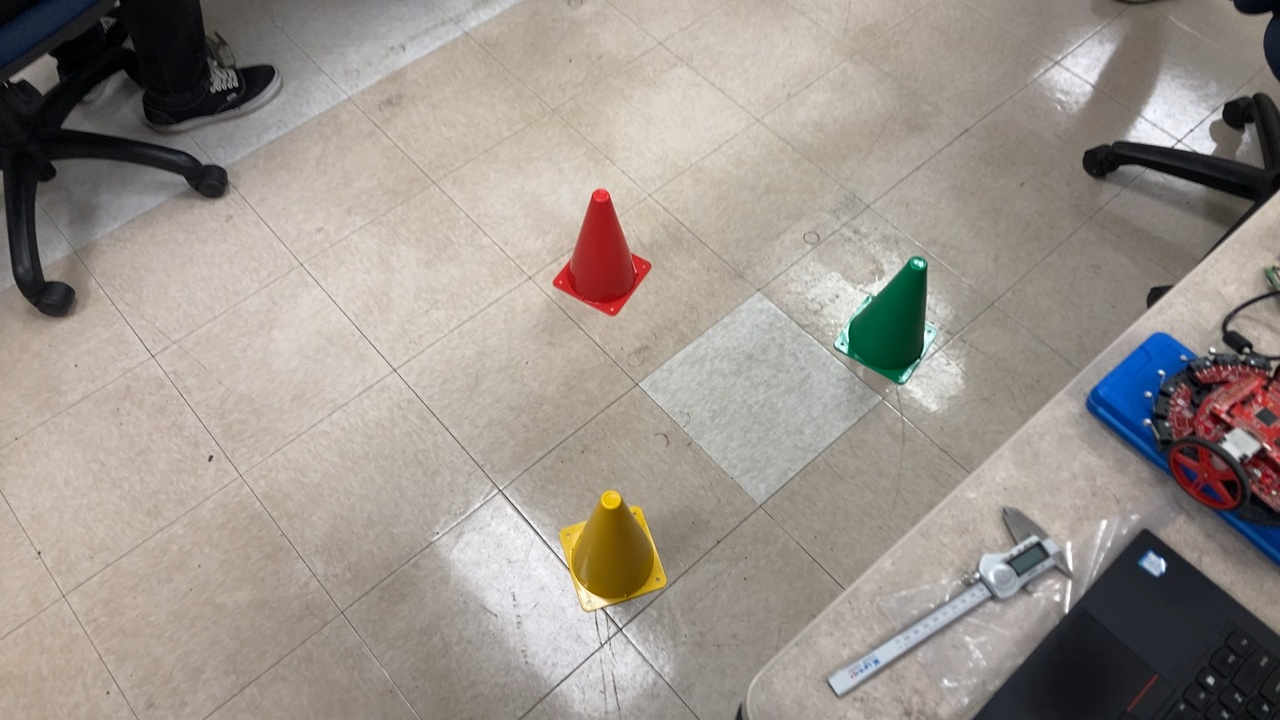green_cone: (828, 251, 938, 388)
red_cone: (551, 186, 656, 320)
yellow_cone: (558, 491, 669, 616)
